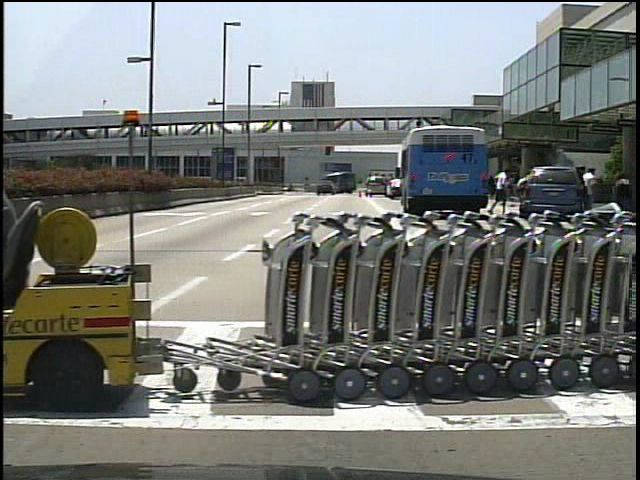person: (580, 165, 601, 214), (514, 168, 534, 217), (493, 166, 512, 216), (10, 139, 11, 299)
